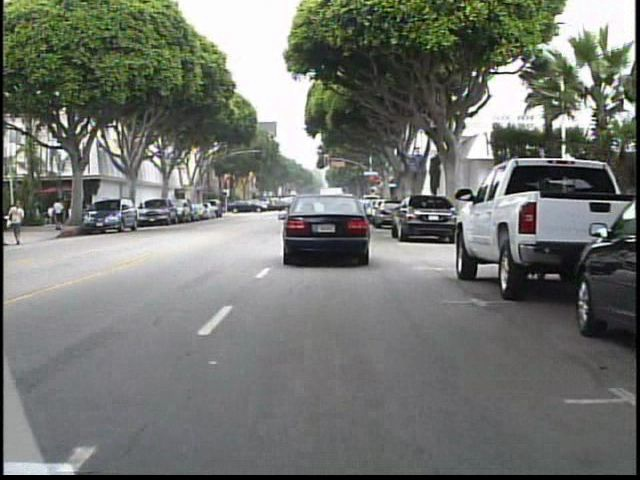person: (9, 194, 31, 249), (53, 195, 70, 231), (276, 193, 277, 216)
